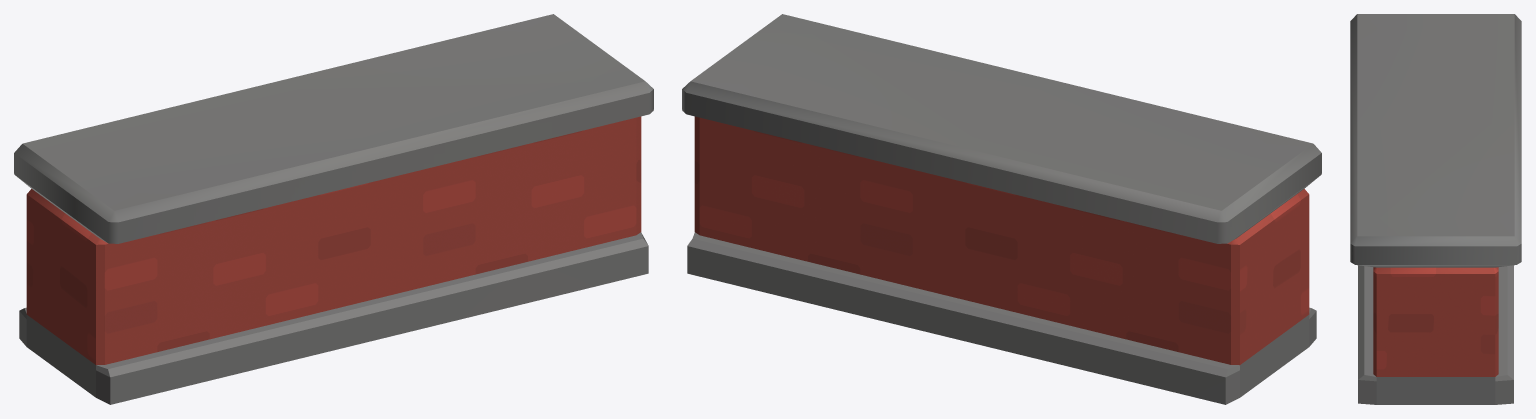
Rendered from BrickWall_1_1.glb.
3 renders of one model, left to right at view 1: azimuth 30°, elevation 25°; view 2: azimuth 150°, elevation 25°; view 3: azimuth 270°, elevation 25°, orthographic. The views are drawn at different scales.
Parts seen in each view (by area): view 1: BrickWall_1_1; view 2: BrickWall_1_1; view 3: BrickWall_1_1.
Part boxes in pixels (box(x1,y1,x2,y2)): BrickWall_1_1: box(14, 14, 653, 404); BrickWall_1_1: box(682, 14, 1321, 404); BrickWall_1_1: box(1350, 14, 1521, 404).
Size of the model in its own units: 2 by 0.6783 by 0.6357.
3 materials, 3 textured.
